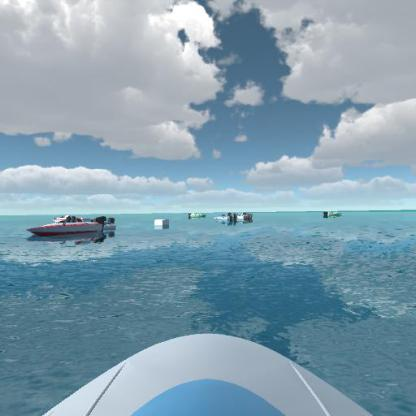usv0: (186, 208, 209, 223), (321, 204, 342, 220)
usv1: (95, 207, 123, 232), (213, 209, 239, 226), (237, 208, 259, 223)
usv3: (23, 213, 112, 239), (46, 204, 92, 224)
